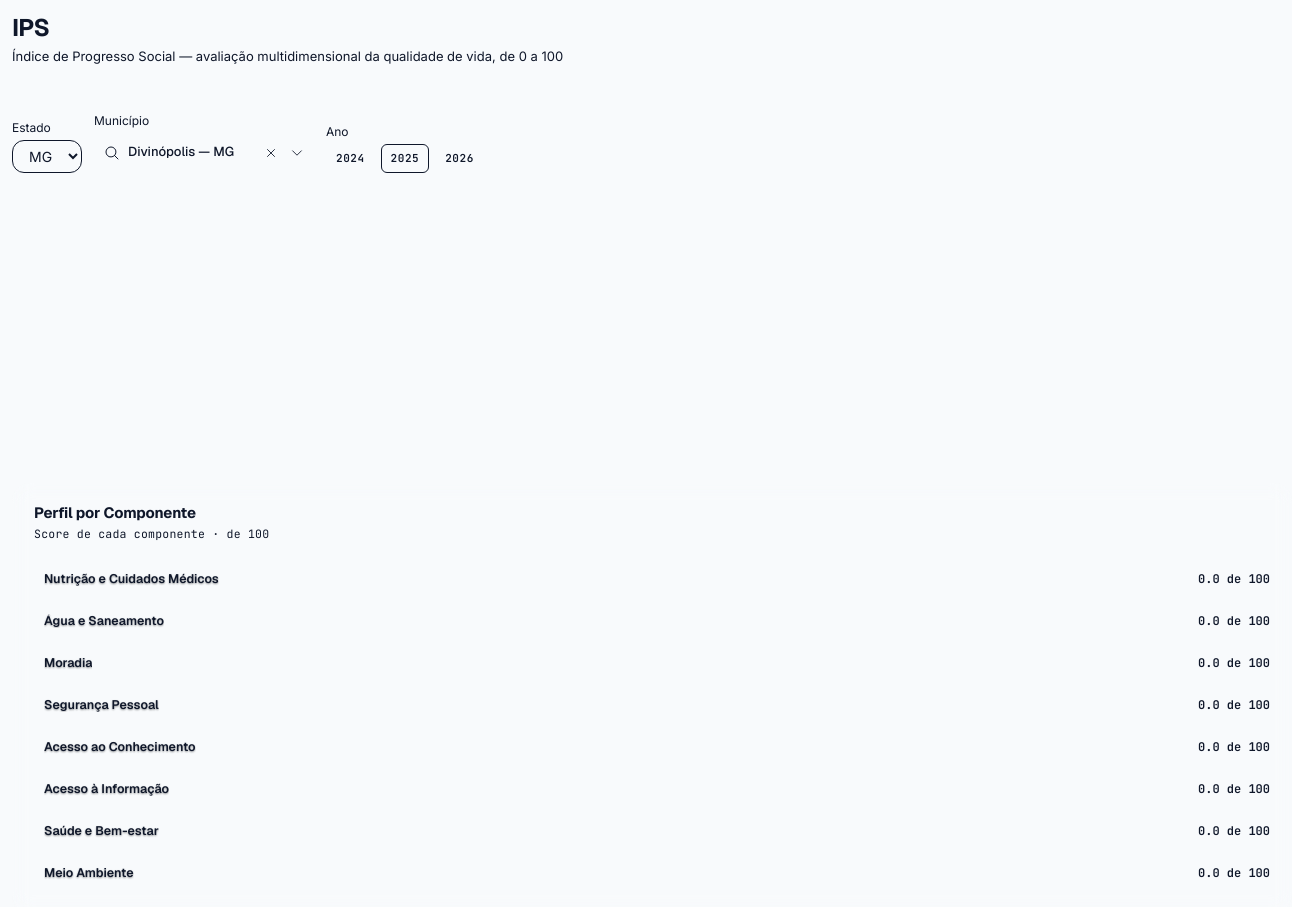
Test: IpsPage — anos com dados vêm do backend › estado sem dados no ano: troca de estado e município com aviso; resposta atrasada do estado antigo não desfaz a troca
This screenshot has width=1292, height=907.
Select "SP" in the dropdown named "Filtrar por estado" at (47, 156), box 12,140 -> 82,172
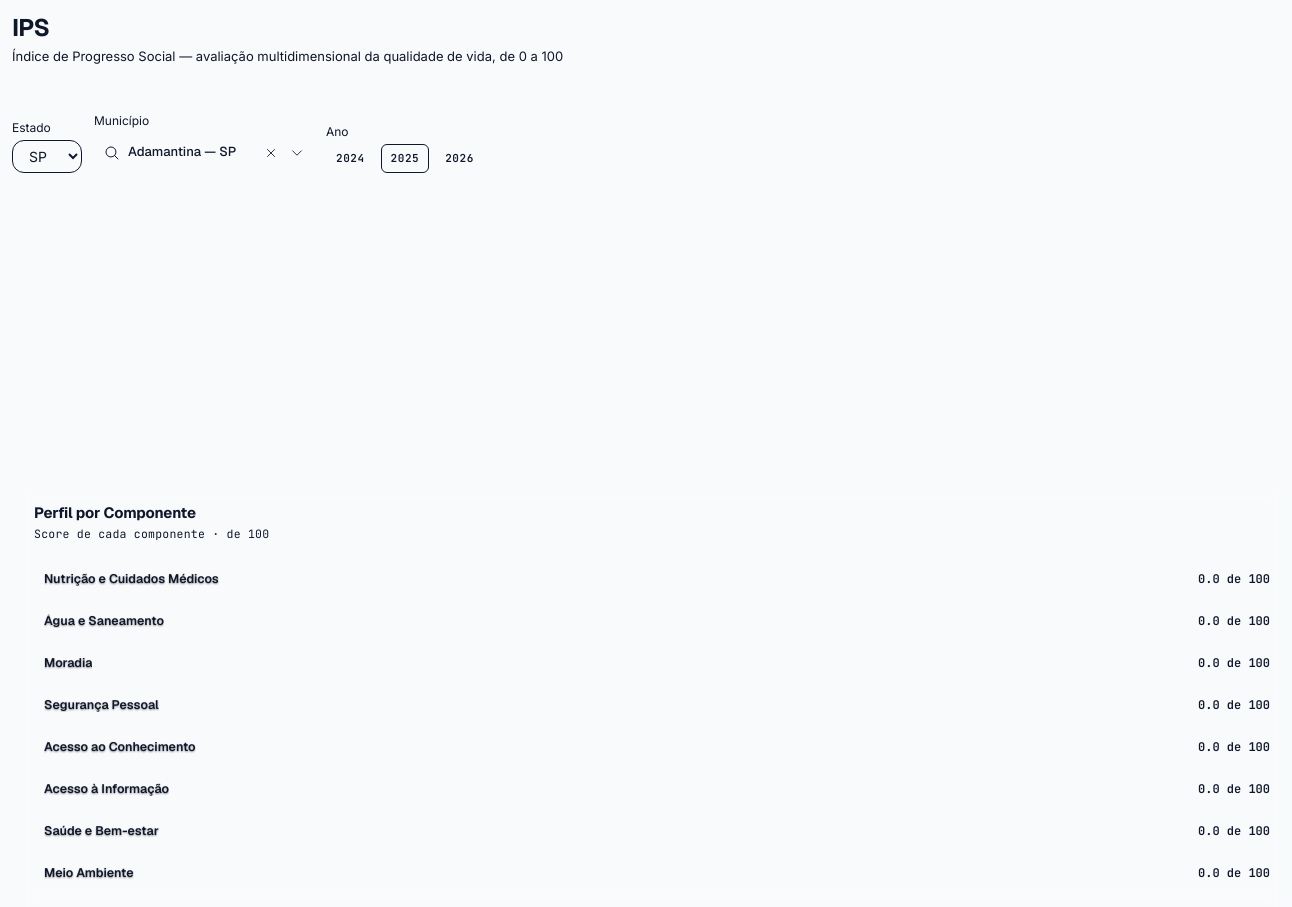
Check: the text "não tem dados de IPS" is not shown
Click the button "2026" at (460, 158), box 435,144 -> 484,172
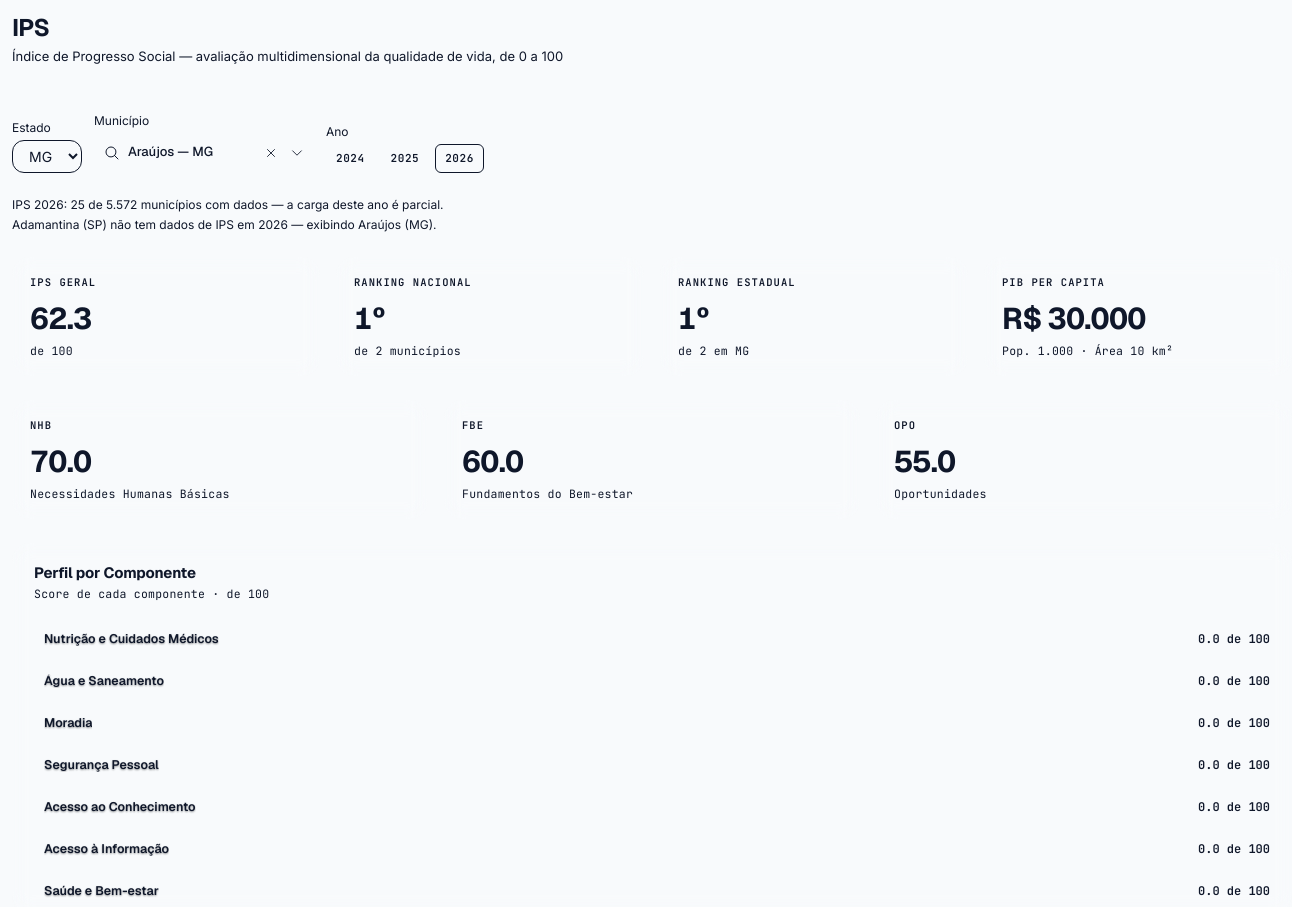
Check: the text "Adamantina (SP) não tem dados de IPS em 2026 — exibindo Araújos (MG)." is shown, box 12,216 -> 436,232
Check: the text "Araújos — MG" is shown, box 128,143 -> 213,160
